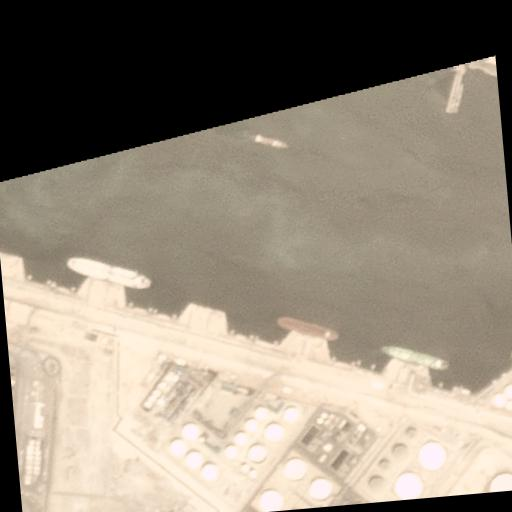ship: (65, 252, 151, 294), (382, 338, 450, 375), (276, 312, 340, 346), (252, 130, 288, 154)
